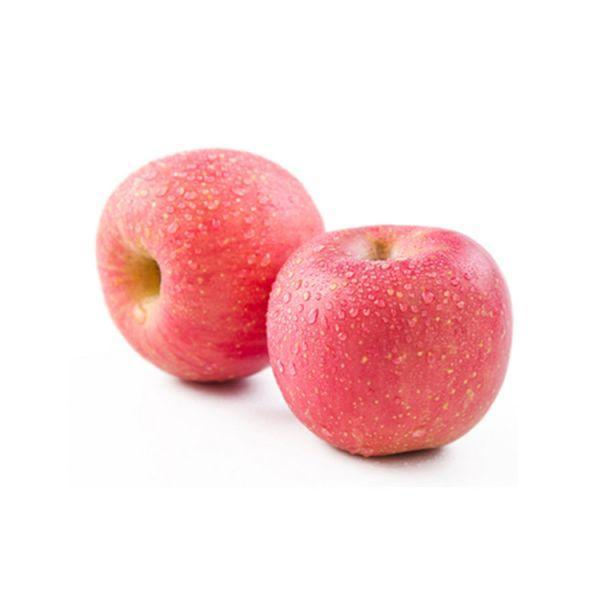apple: (260, 225, 509, 462), (94, 150, 323, 390)
